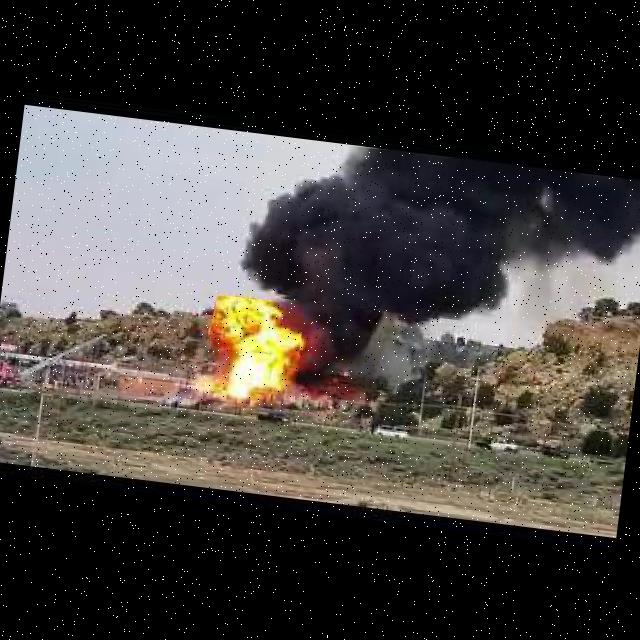fire: (232, 133, 640, 342), (202, 294, 304, 411)
